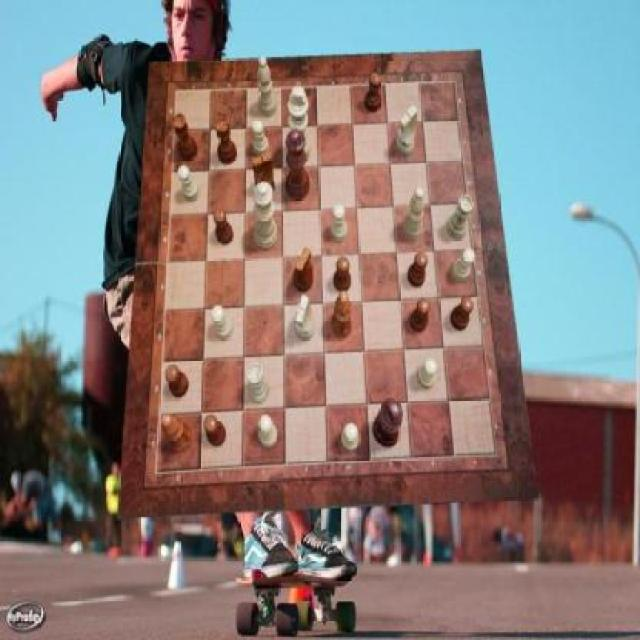bishop: (161, 414, 194, 452), (331, 292, 352, 340)
black-bishop: (372, 400, 402, 448)
black-king: (252, 152, 276, 200), (294, 248, 314, 293)
black-knight: (164, 364, 188, 398), (451, 295, 474, 330), (205, 415, 228, 448), (408, 252, 428, 288), (214, 210, 234, 246), (411, 298, 432, 332), (364, 74, 382, 112), (334, 257, 351, 293)
black-pawn: (286, 129, 311, 202)
black-queen: (172, 114, 198, 161), (216, 117, 238, 165)
black-rook: (258, 55, 278, 117), (403, 188, 425, 242)
white-bishop: (288, 86, 312, 166)
white-king: (395, 104, 418, 156), (294, 295, 314, 341)
white-knight: (452, 249, 476, 283), (178, 166, 200, 202), (211, 305, 233, 339), (258, 416, 278, 450), (330, 205, 348, 242), (252, 119, 270, 156), (417, 358, 437, 391), (342, 423, 359, 451)
white-pawn: (254, 183, 278, 251)
white-queen: (448, 195, 474, 241), (246, 363, 269, 405)
